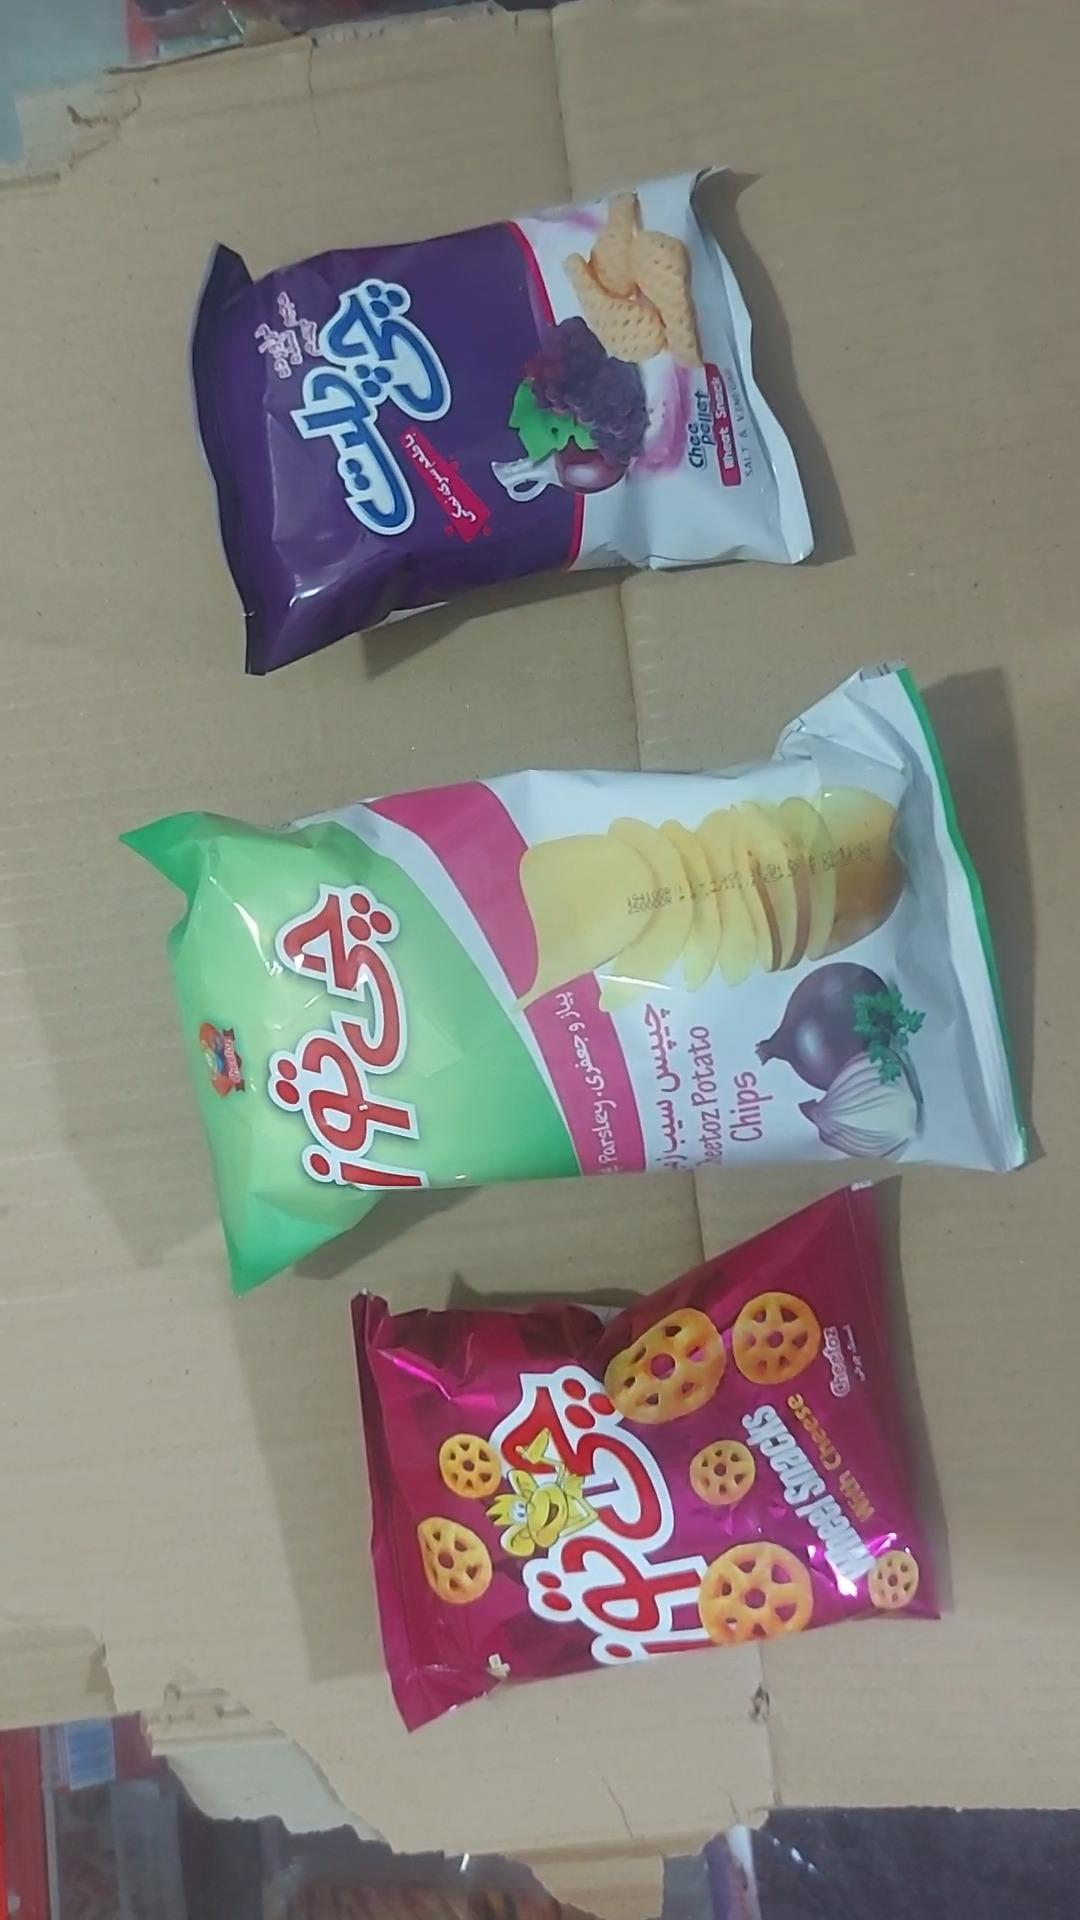Chee pellet vinegar: (189, 165, 816, 679)
Cheetoz onion and parsley chips: (120, 665, 1033, 1298)
Cheetoz wheelsnack: (349, 1182, 942, 1735)
